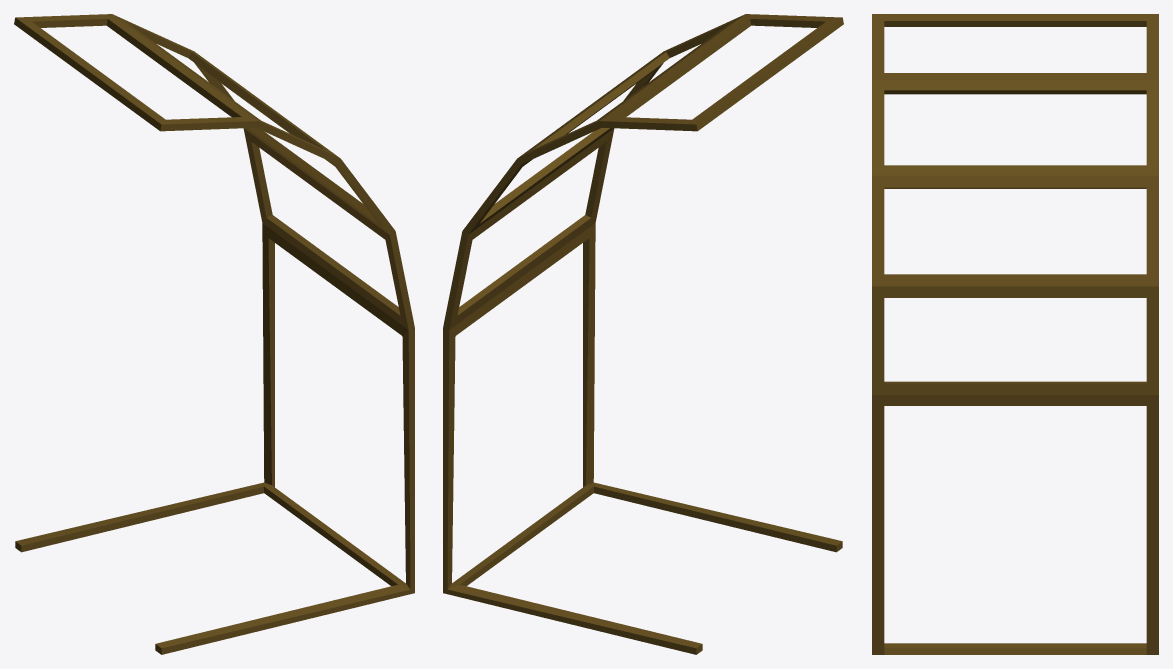
File: frame_side.glb
The picture shows the model from 3 angles, left to right: view 1: azimuth 30°, elevation 25°; view 2: azimuth 150°, elevation 25°; view 3: azimuth 270°, elevation 25°; orthographic projection. The views are drawn at different scales.
Parts seen in each view (by area): view 1: frame_side; view 2: frame_side; view 3: frame_side.
Boxes of the visible parts, bbox=[...] form: frame_side: bbox=[14, 14, 414, 654]; frame_side: bbox=[443, 14, 843, 654]; frame_side: bbox=[872, 14, 1158, 654].
Bounding box in the file's own units: 2.01 × 4 × 2.
